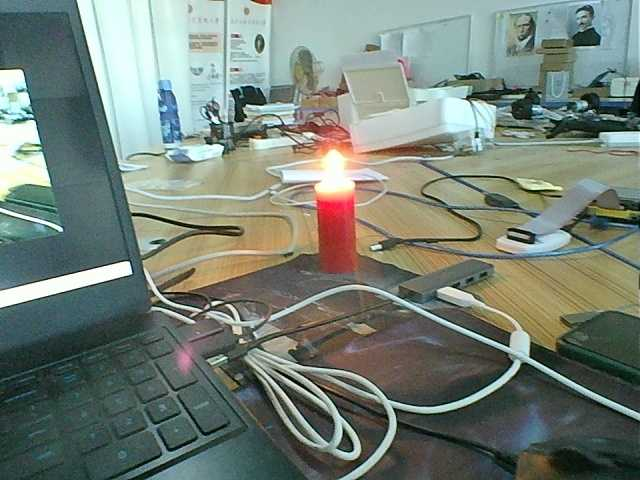candle: (312, 191, 365, 278)
fire: (316, 149, 351, 188)
